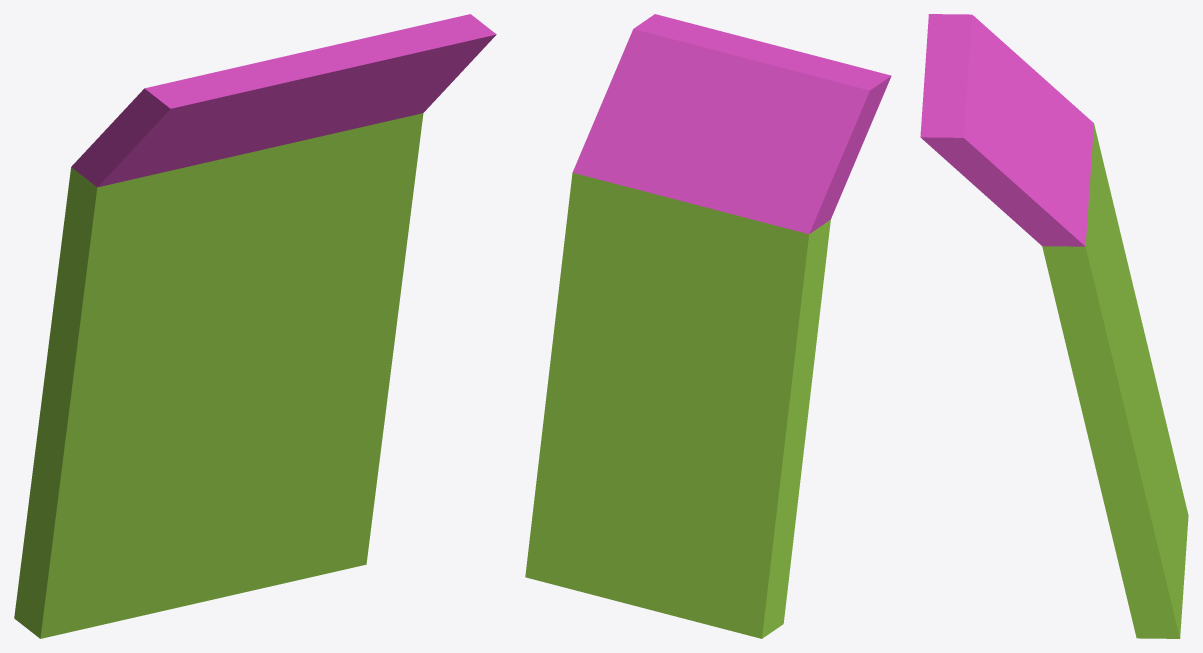
File: flower3.fbx
3 renders of one model, left to right at view 1: azimuth 30°, elevation 25°; view 2: azimuth 150°, elevation 25°; view 3: azimuth 270°, elevation 25°, orthographic. The views are drawn at different scales.
Parts seen in each view (by area): view 1: flower.002; view 2: flower.002; view 3: flower.002.
Boxes of the visible parts, x1=… form: flower.002: x1=14, y1=14, x2=496, y2=638; flower.002: x1=525, y1=14, x2=891, y2=638; flower.002: x1=920, y1=14, x2=1188, y2=638.
Bounding box in the file's own units: 0.1778 × 0.3264 × 0.1592.
